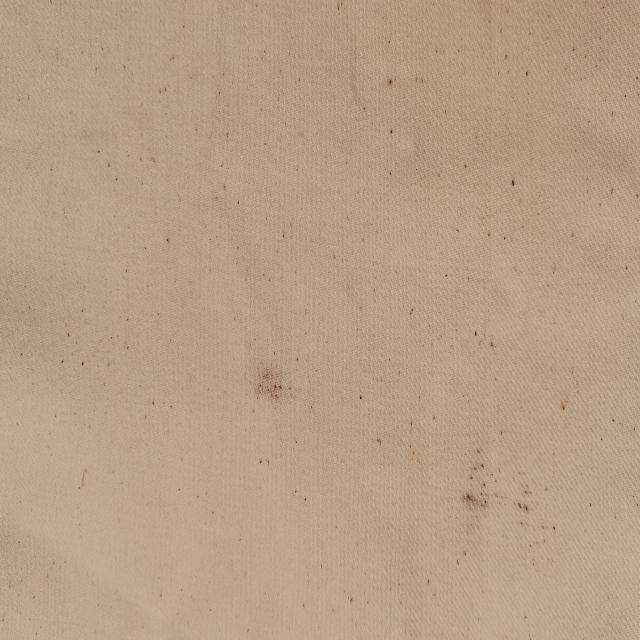taaaches: (456, 435, 500, 521), (254, 344, 294, 414), (511, 472, 541, 534)
